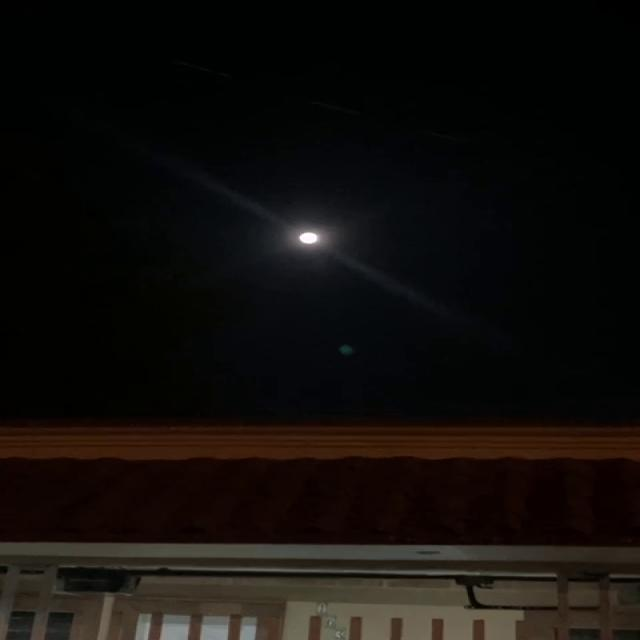moon: (290, 223, 332, 247)
